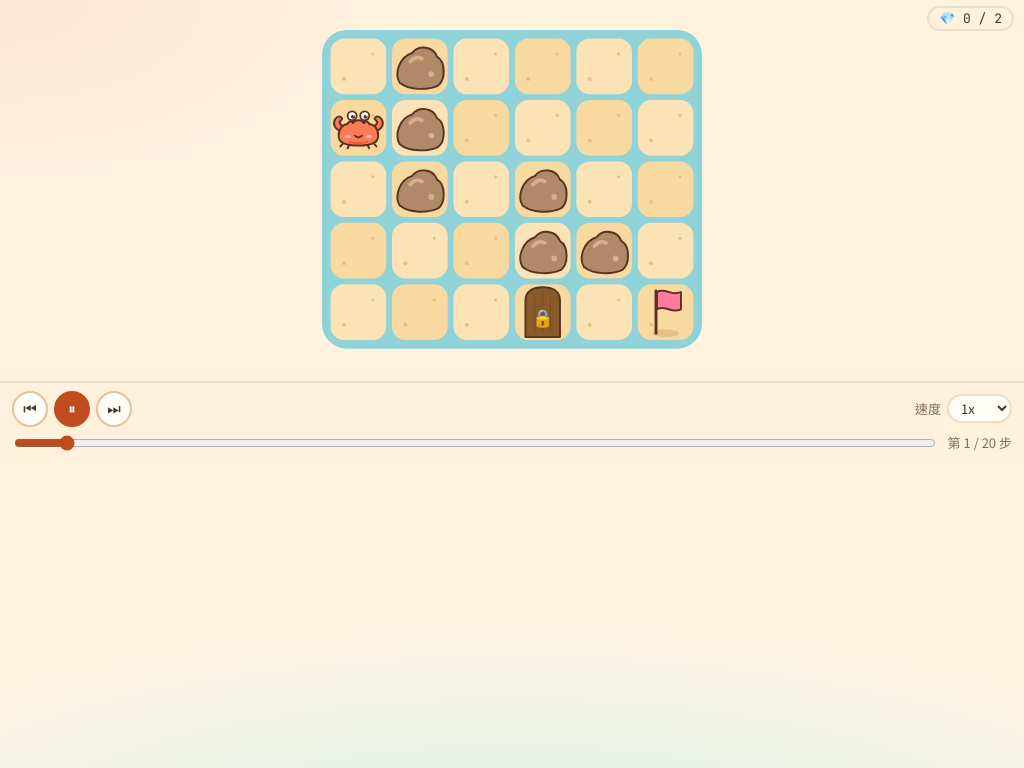
Test: F4 GridWorld › 自動播放與播放控制 › 暫停後單步前進一步
The width and height of the screenshot is (1024, 768).
Click the button named "暫停" at point(72, 409), box left=54, top=391, right=90, bottom=427
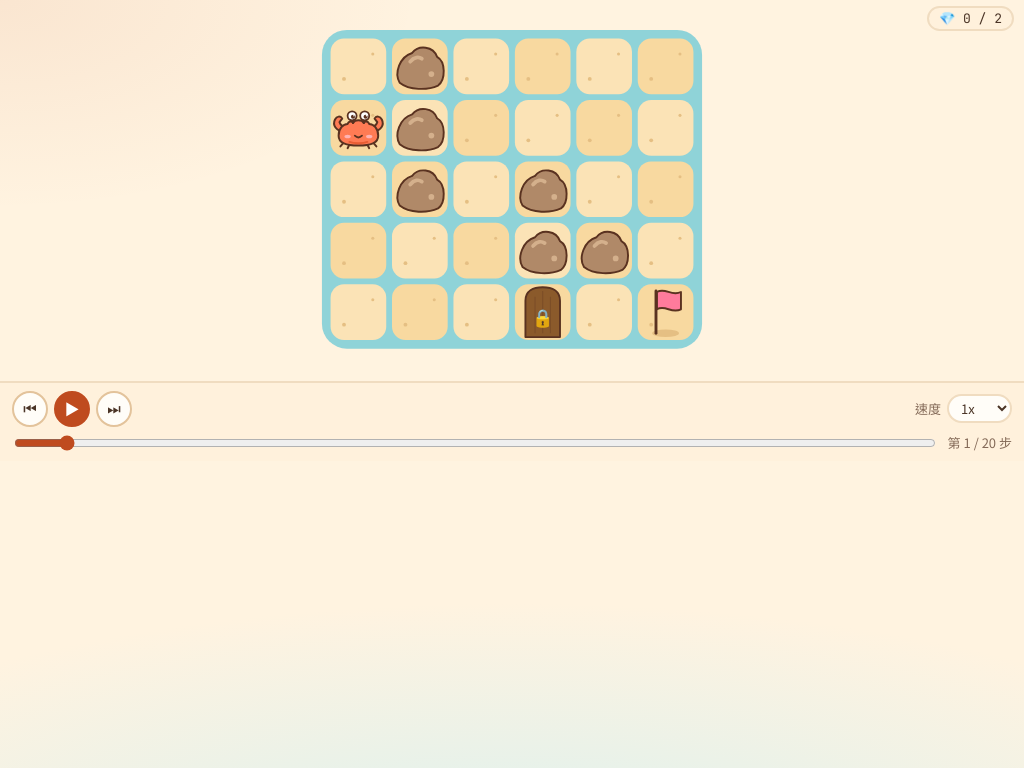
Click the button named "單步前進" at point(114, 409), box left=96, top=391, right=132, bottom=427
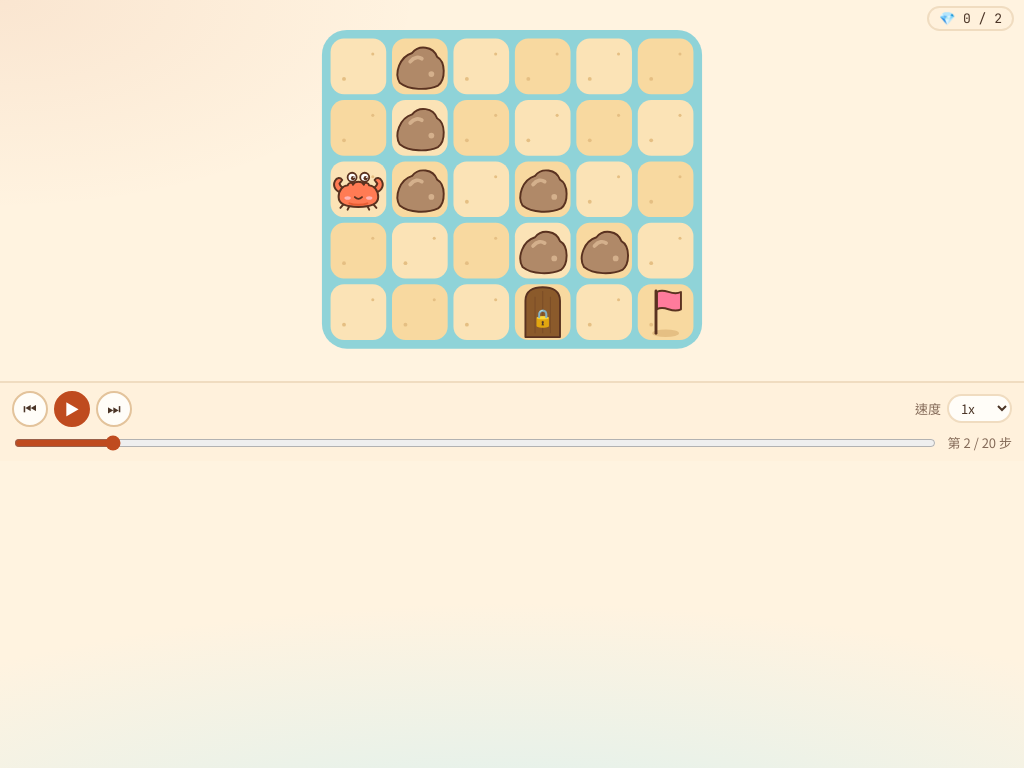
Expected: the button named "播放" is shown, left=54, top=391, right=90, bottom=427
Expected: the text with test id "step-label" reads "第 2 / 20 步", left=948, top=433, right=1012, bottom=452
